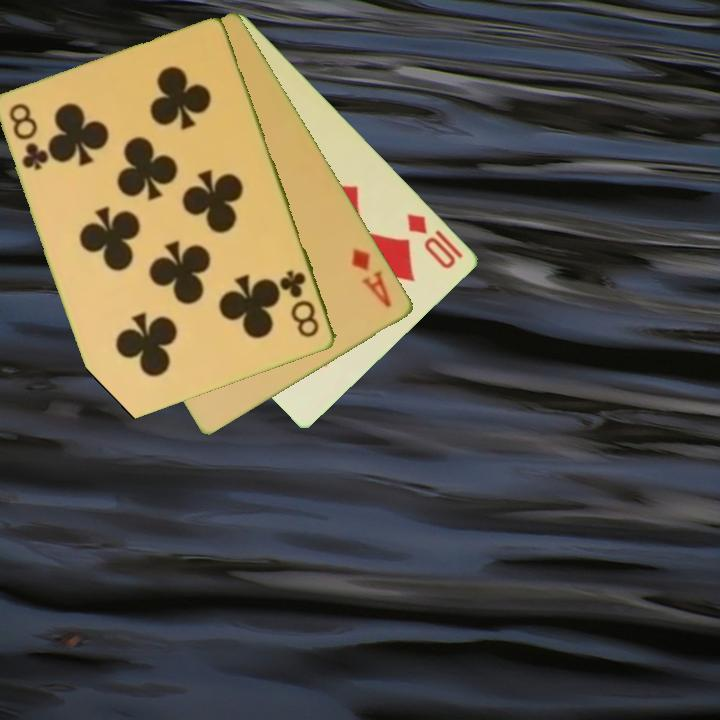10d: (404, 210, 460, 272)
8c: (277, 267, 323, 341), (6, 100, 51, 174)
Ad: (348, 244, 396, 311)
